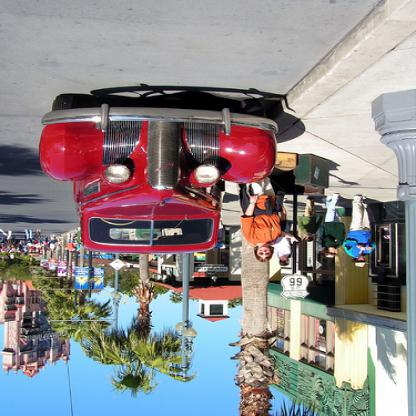car: (39, 95, 282, 257)
person: (241, 180, 291, 265), (343, 196, 379, 269), (322, 194, 348, 260), (275, 199, 298, 269), (299, 196, 325, 244)
